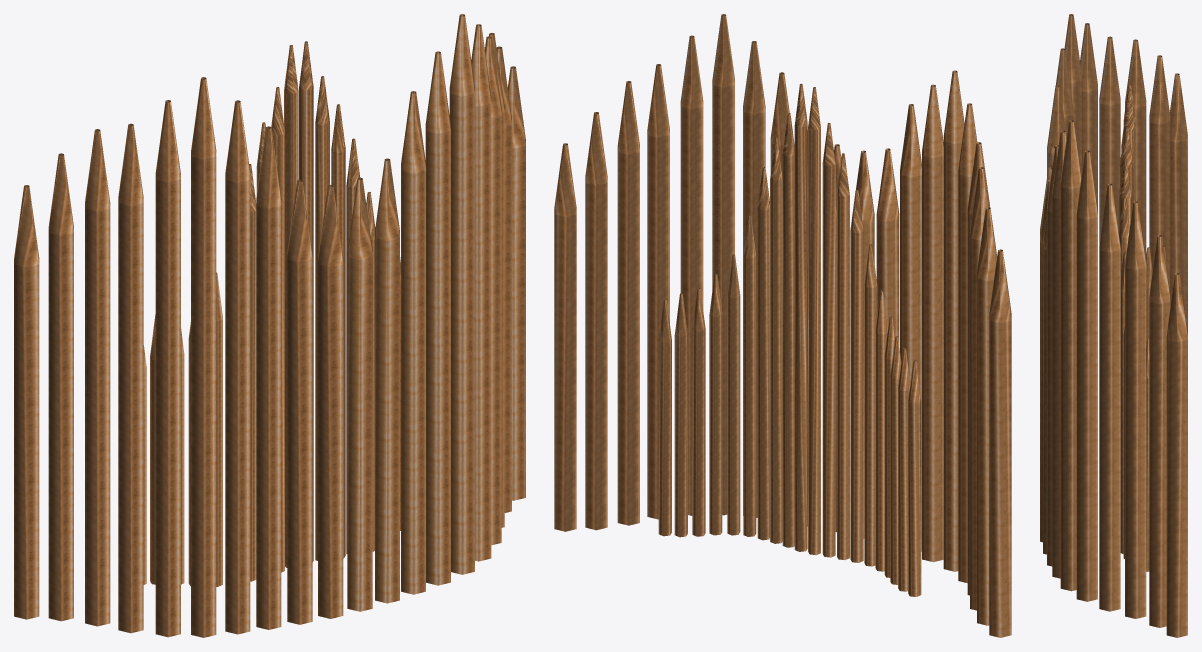
Rendered from church_organ.DAE.
3 views of the same model, side by side, from view 1: azimuth 30°, elevation 25°; view 2: azimuth 150°, elevation 25°; view 3: azimuth 270°, elevation 25° (orthographic). The views are drawn at different scales.
Parts seen in each view (by area): view 1: Object122; view 2: Object122; view 3: Object122.
Part boxes in pixels (x1,y1,x2,y2): Object122: (14, 14, 525, 637); Object122: (554, 14, 1011, 637); Object122: (1040, 14, 1187, 637).
Bounding box in the file's own units: 7.13 × 7.36 × 2.12.
